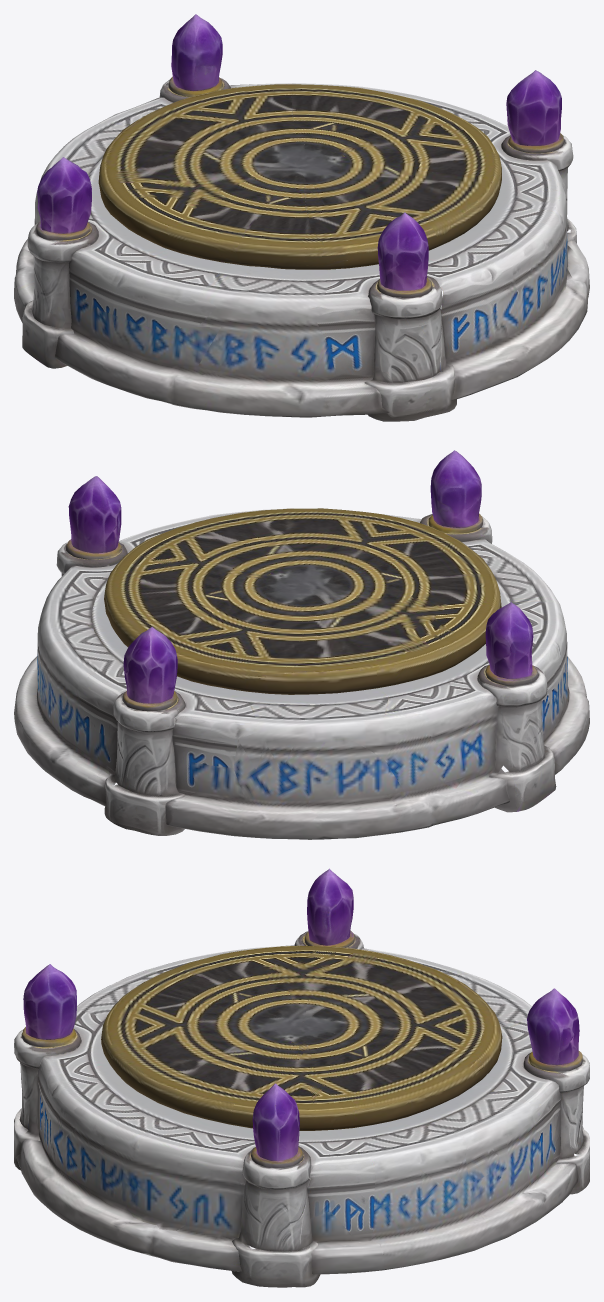
The model's file is altar.glb.
3 renders of one model, top to bottom at view 1: azimuth 30°, elevation 25°; view 2: azimuth 150°, elevation 25°; view 3: azimuth 270°, elevation 25°, orthographic.
Size of the model in its own units: 1 by 0.3652 by 1.
Materials: 1 (1 with a texture image).
